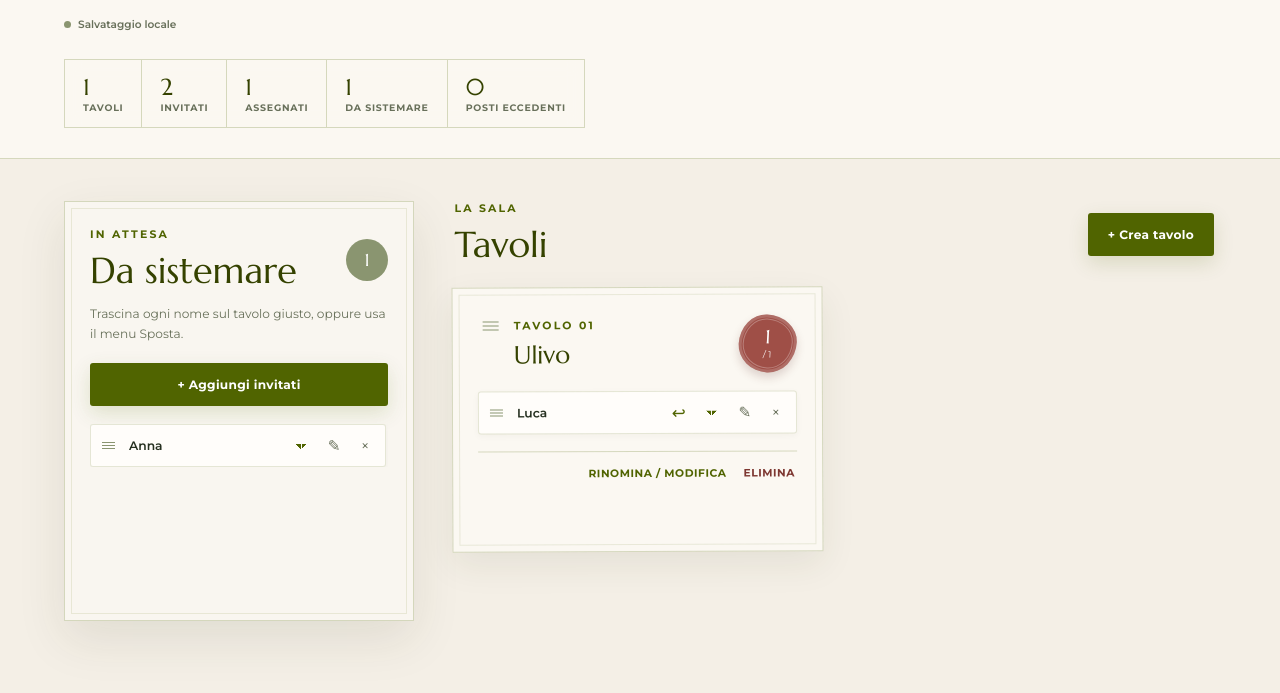
Scenario: persistenza e percorsi accessibili › sposta un invitato con il menu accessibile usando la stessa assegnazione
(page scrolled)
Select "1 · Ulivo" in the dropdown named "Sposta Anna": coordinates (301, 446) [285,431,317,461]
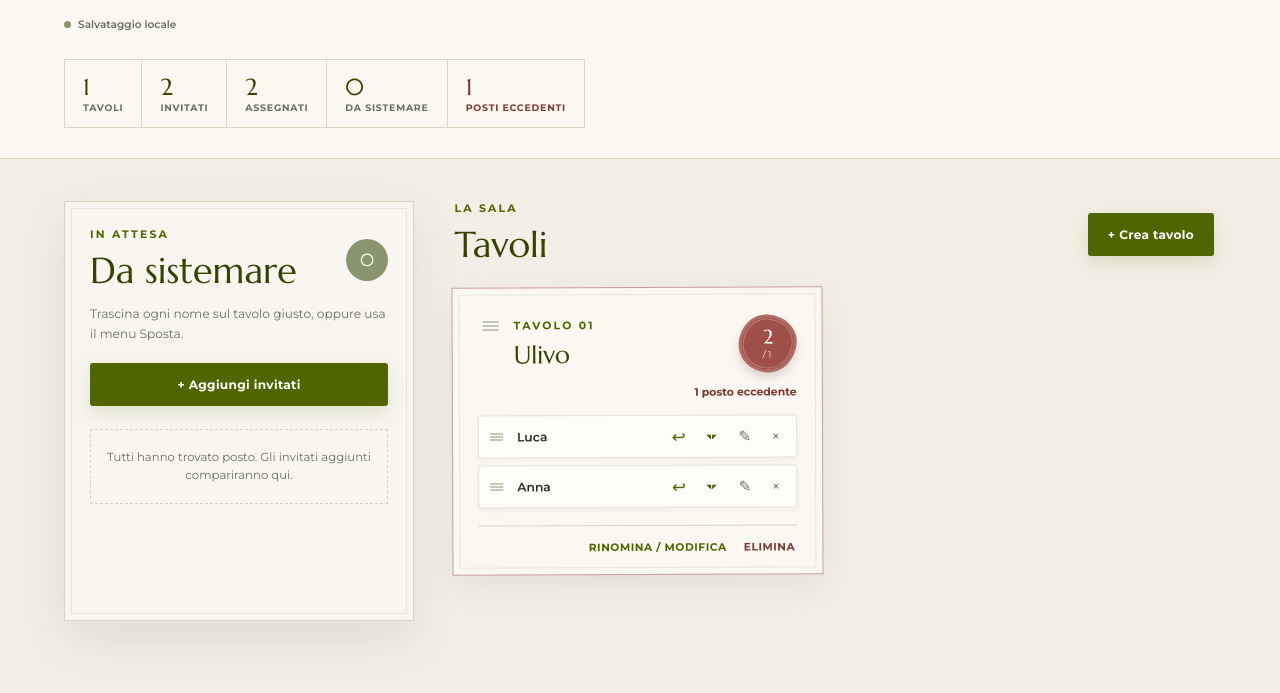
Expected: the text "Anna" is shown, [518,480,551,495]
Expected: the text "1 posto eccedente" is shown, [695,385,797,399]
